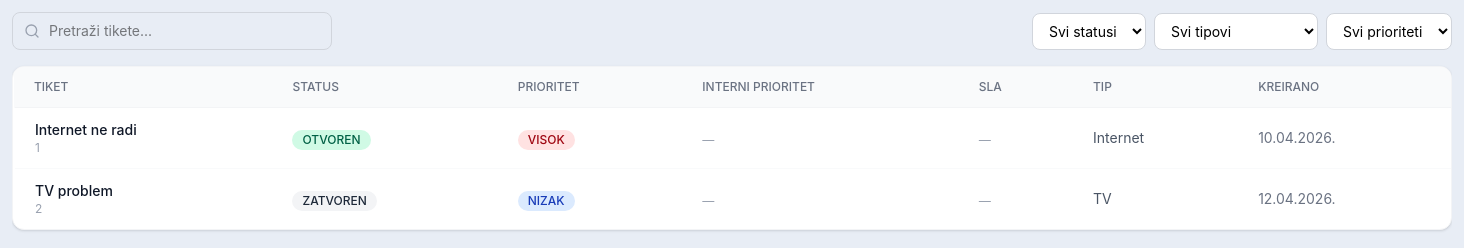
Test: Tickets page — PB-32, PB-33 › filters tickets by priority
The width and height of the screenshot is (1464, 248).
Select "Visok" in the 3rd dropdown showing "Svi prioriteti" at (1389, 31), box [1326,12,1452,50]
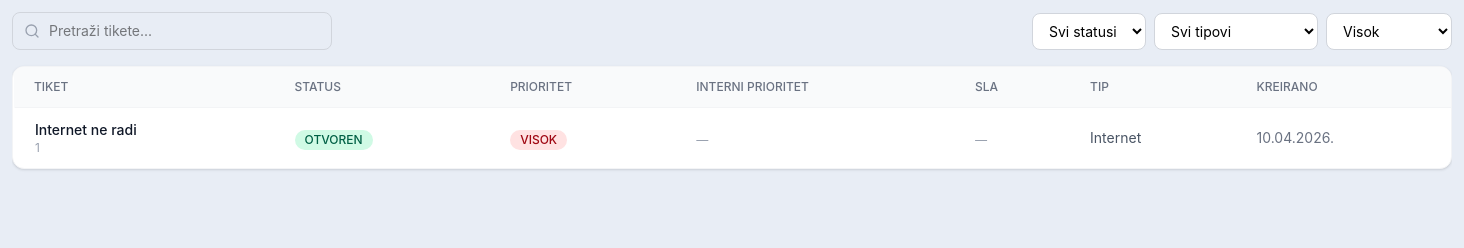
Result: the text "TV problem" is not shown
